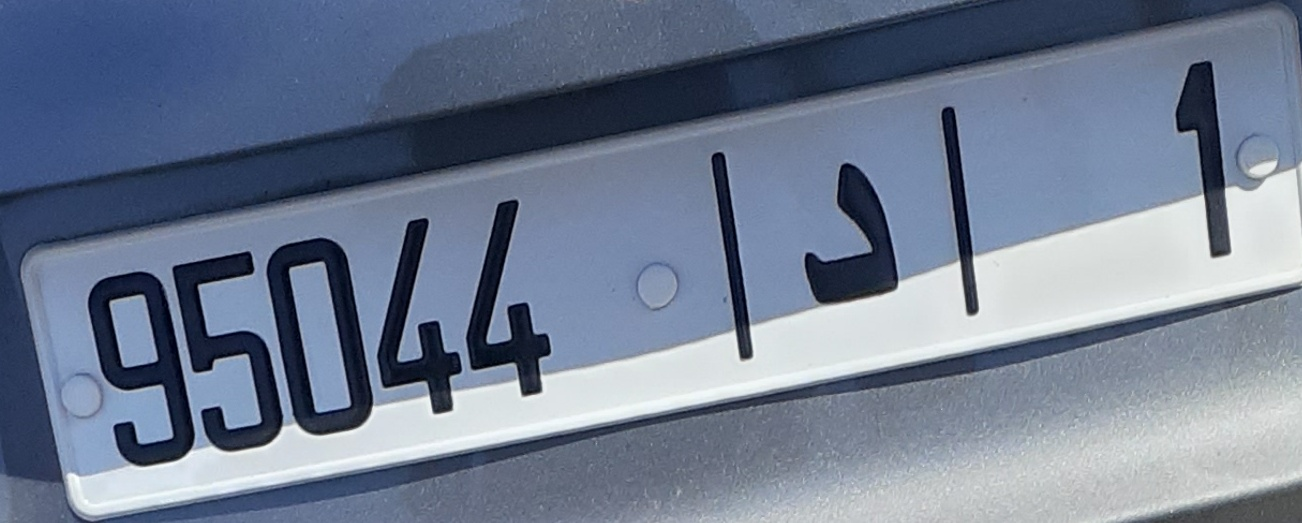0: (267, 233, 381, 439)
1: (1162, 55, 1244, 267)
4: (372, 212, 467, 425), (467, 193, 559, 402)
5: (172, 248, 289, 457)
9: (86, 262, 198, 473)
d: (791, 156, 909, 311)
